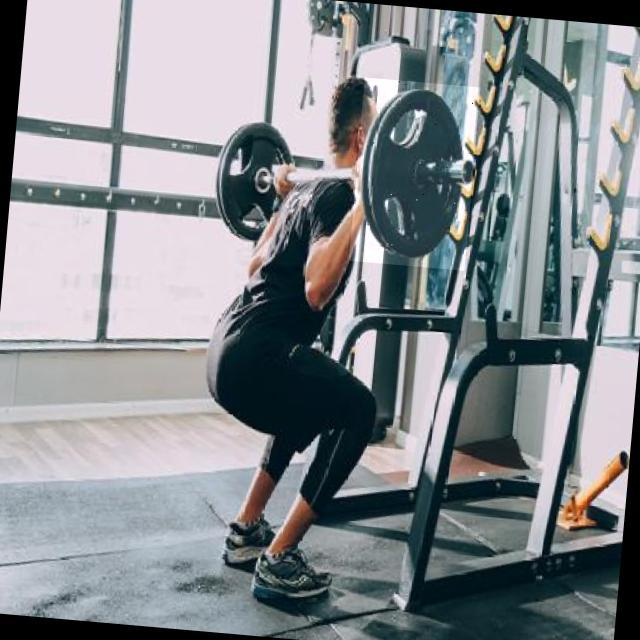barbell: (349, 78, 481, 271)
